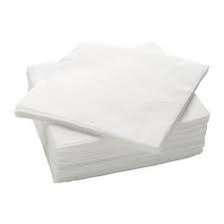tissue: (7, 32, 217, 188)
